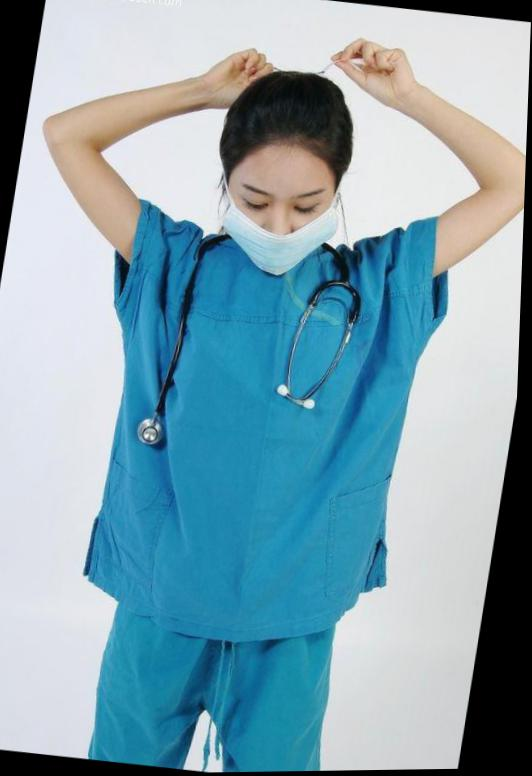WRONG: (218, 132, 345, 283)
